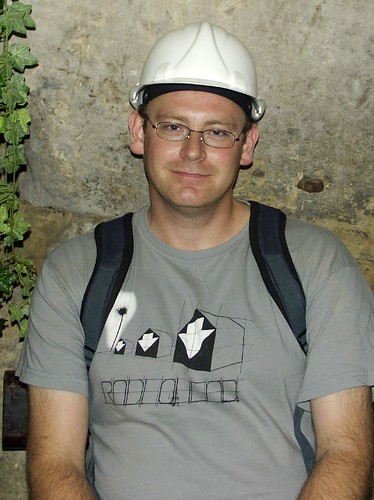person hardhat: (31, 21, 374, 500)
